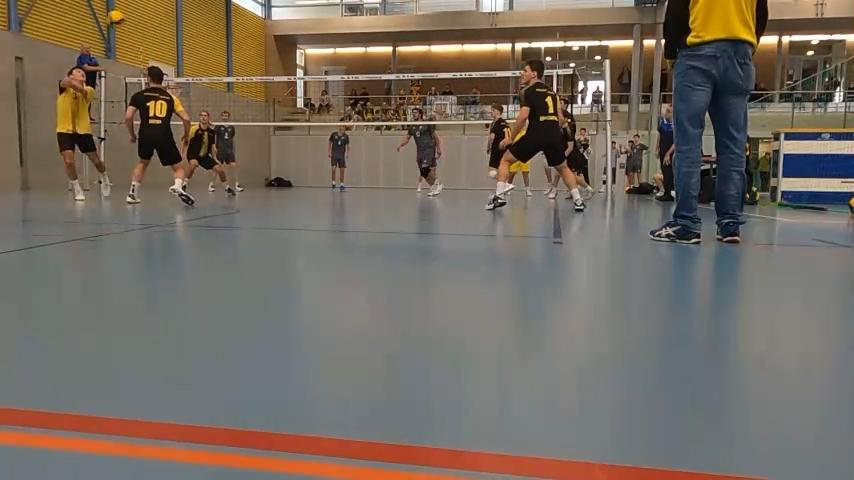Dig: (47, 62, 116, 205)
Player: (486, 59, 584, 210), (125, 66, 194, 204), (182, 110, 235, 194), (397, 123, 442, 196), (562, 110, 593, 199), (562, 111, 593, 199), (214, 111, 242, 191), (487, 104, 510, 178), (486, 104, 509, 178), (327, 125, 349, 191), (507, 160, 531, 196)
ball: (105, 9, 126, 26)
